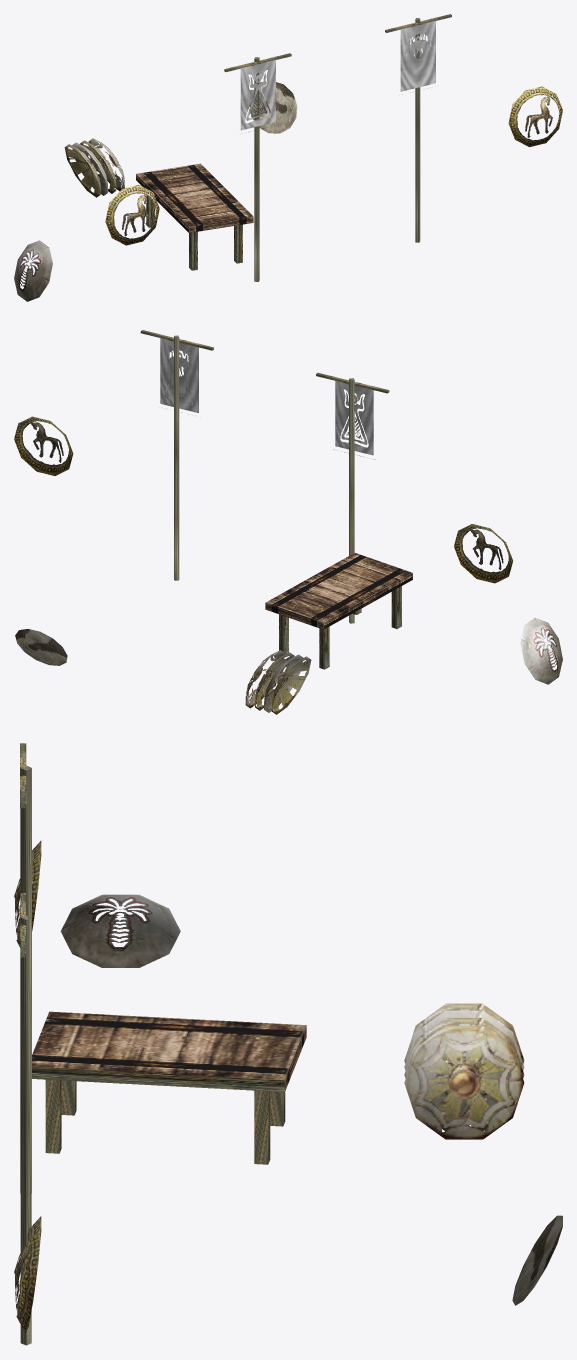
The model's file is kart_barracks_props_a.dae.
3 views of the same model, one above another, from view 1: azimuth 30°, elevation 25°; view 2: azimuth 150°, elevation 25°; view 3: azimuth 270°, elevation 25° (orthographic). The views are drawn at different scales.
Visible parts, largest first — view 1: Cylinder14-Pivot; view 2: Cylinder14-Pivot; view 3: Cylinder14-Pivot.
Part boxes in pixels (x1=…): Cylinder14-Pivot: x1=14, y1=14, x2=562, y2=301; Cylinder14-Pivot: x1=14, y1=330, x2=562, y2=714; Cylinder14-Pivot: x1=14, y1=743, x2=562, y2=1345.
Size of the model in its own units: 19.05 by 9.14 by 7.82.
